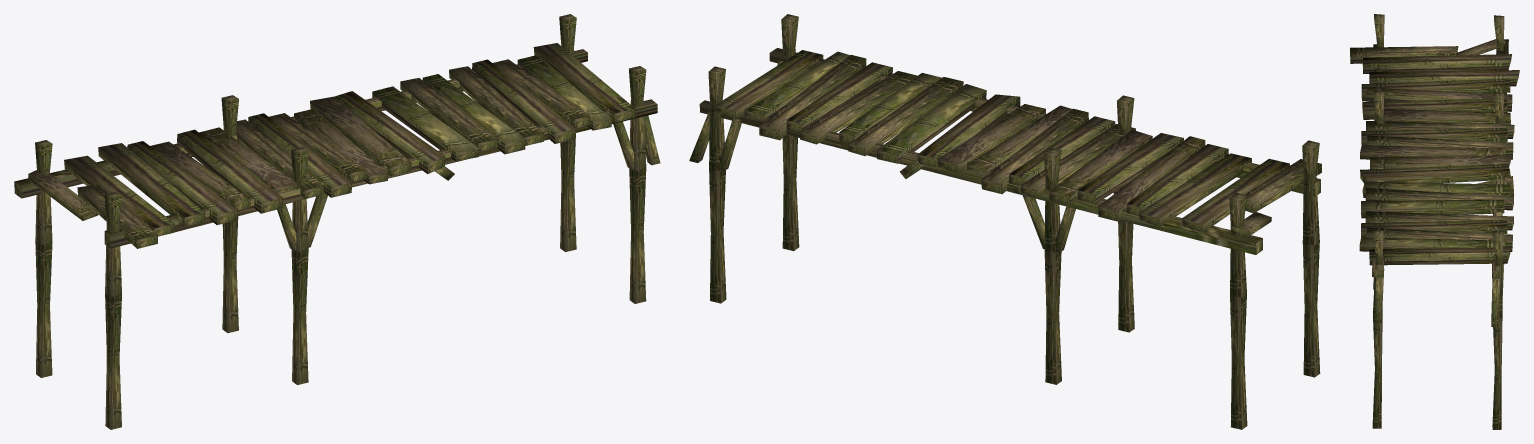
Rendered from S_Build_Village067.FBX.
3 views of the same model, side by side, from view 1: azimuth 30°, elevation 25°; view 2: azimuth 150°, elevation 25°; view 3: azimuth 270°, elevation 25° (orthographic). The views are drawn at different scales.
Parts seen in each view (by area): view 1: S_Build_Village067; view 2: S_Build_Village067; view 3: S_Build_Village067.
Part boxes in pixels (x1,y1,x2,y2): S_Build_Village067: (14,14,660,429); S_Build_Village067: (689,14,1321,429); S_Build_Village067: (1350,14,1519,429).
Bounding box in the file's own units: 1366 × 416 × 530.
